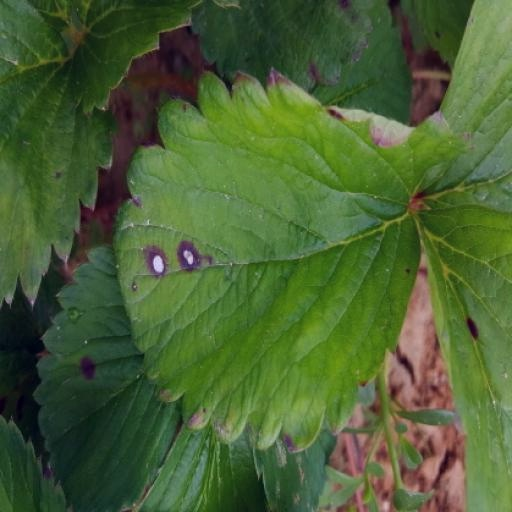Leaf Spot: (91, 66, 400, 454), (329, 246, 478, 511), (392, 0, 511, 311), (0, 205, 101, 511), (138, 0, 323, 94), (445, 417, 511, 511), (40, 0, 111, 69)
